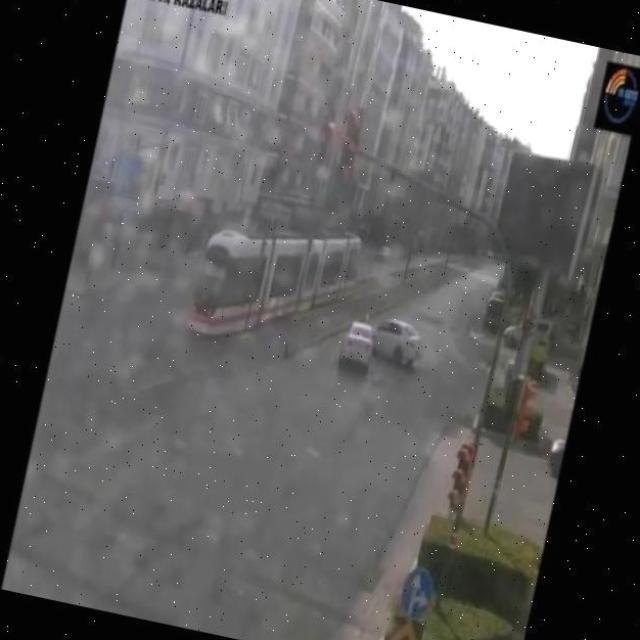accident: (338, 310, 426, 385)
